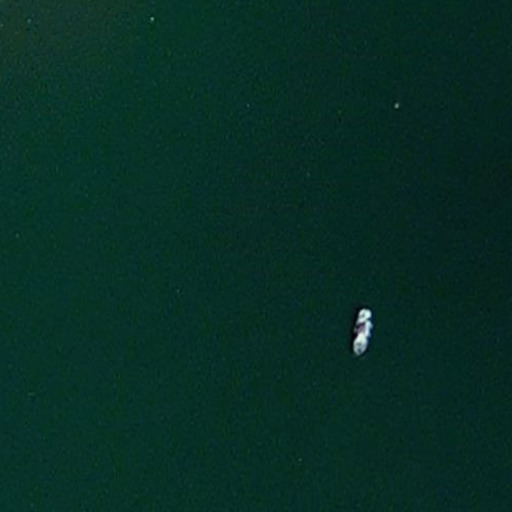ship: (349, 306, 374, 359)
